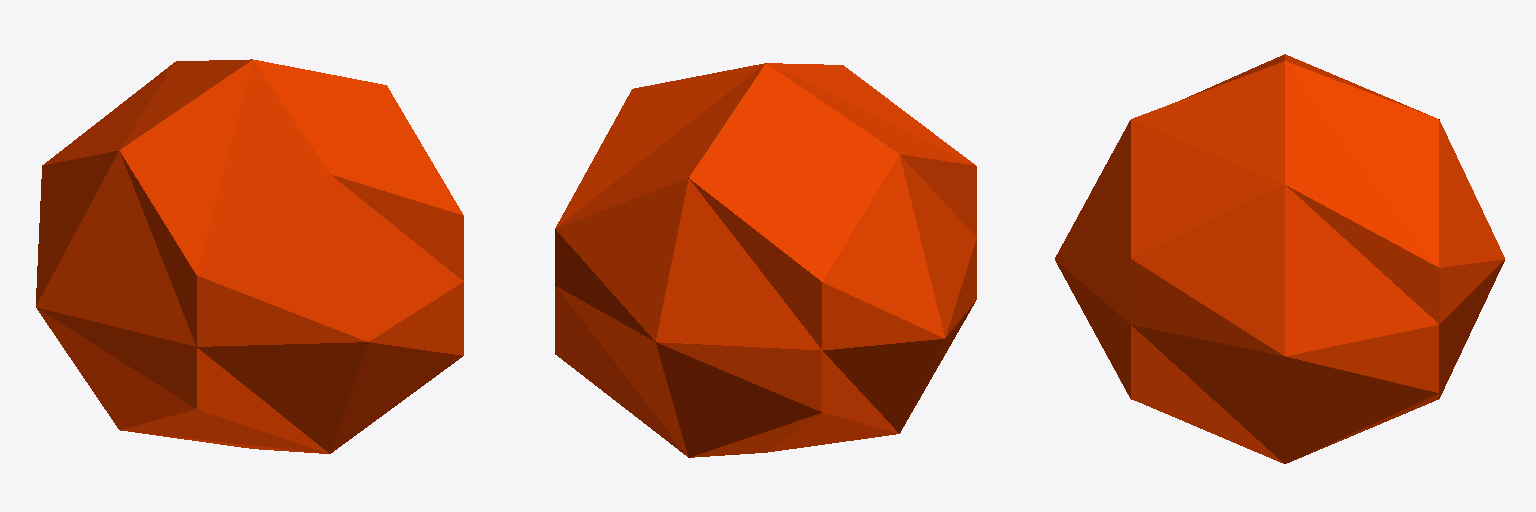
The picture shows the model from 3 angles: view 1: azimuth 30°, elevation 25°; view 2: azimuth 150°, elevation 25°; view 3: azimuth 270°, elevation 25°; orthographic projection.
Visible parts, largest first — view 1: Cube; view 2: Cube; view 3: Cube.
Part boxes in pixels (x1,y1,x2,y2): Cube: (36, 59, 463, 453); Cube: (555, 63, 976, 457); Cube: (1055, 54, 1504, 463).
Size of the model in its own units: 2.97 by 2.78 by 2.92.
Materials: 1 (1 with a texture image).